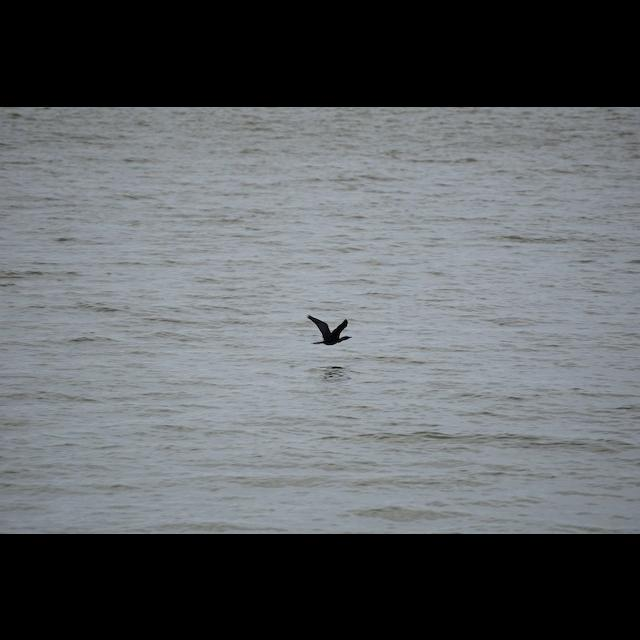cormorant: (304, 309, 356, 353)
